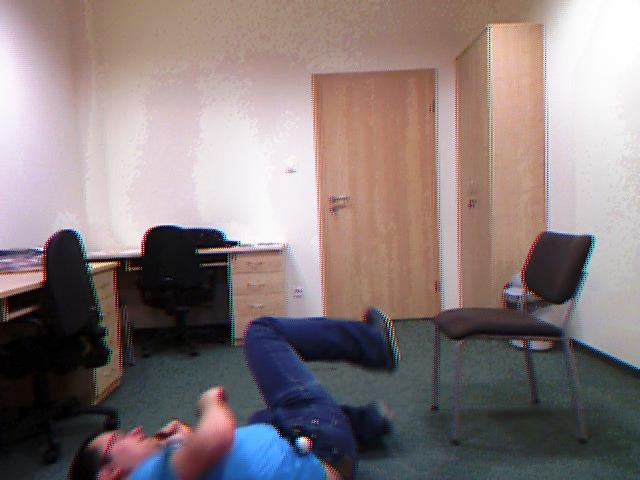fall: (70, 308, 400, 479)
